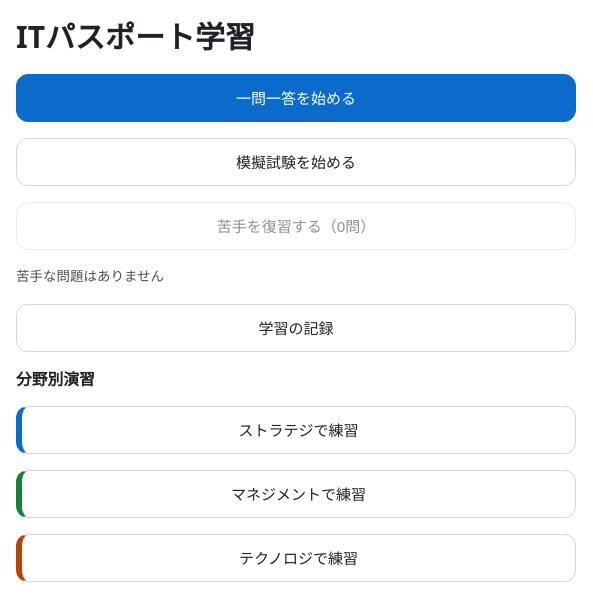
模擬試験の出題 › 問題集の全問が出題される（10問を超えても絞らない）
What coordinates should you click on to do the following:
click the button "模擬試験を始める"
I would click on:
 (296, 162)
Its box is x1=16 y1=138 x2=576 y2=186.
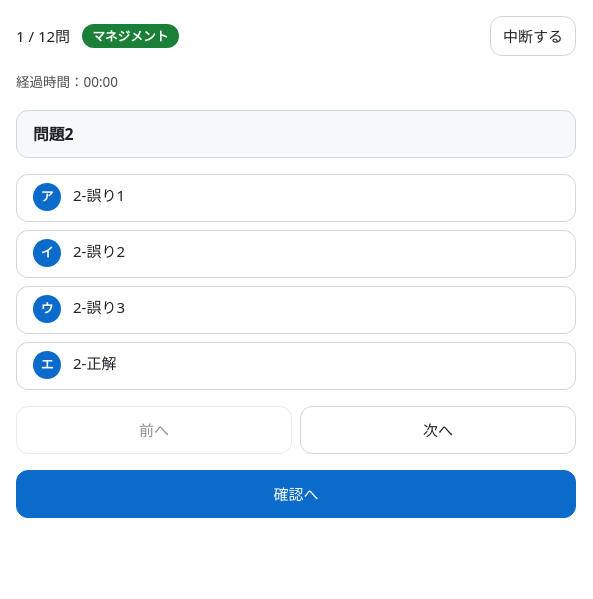
Expected: the text "1 / 12問" is shown, x1=16 y1=24 x2=70 y2=48
